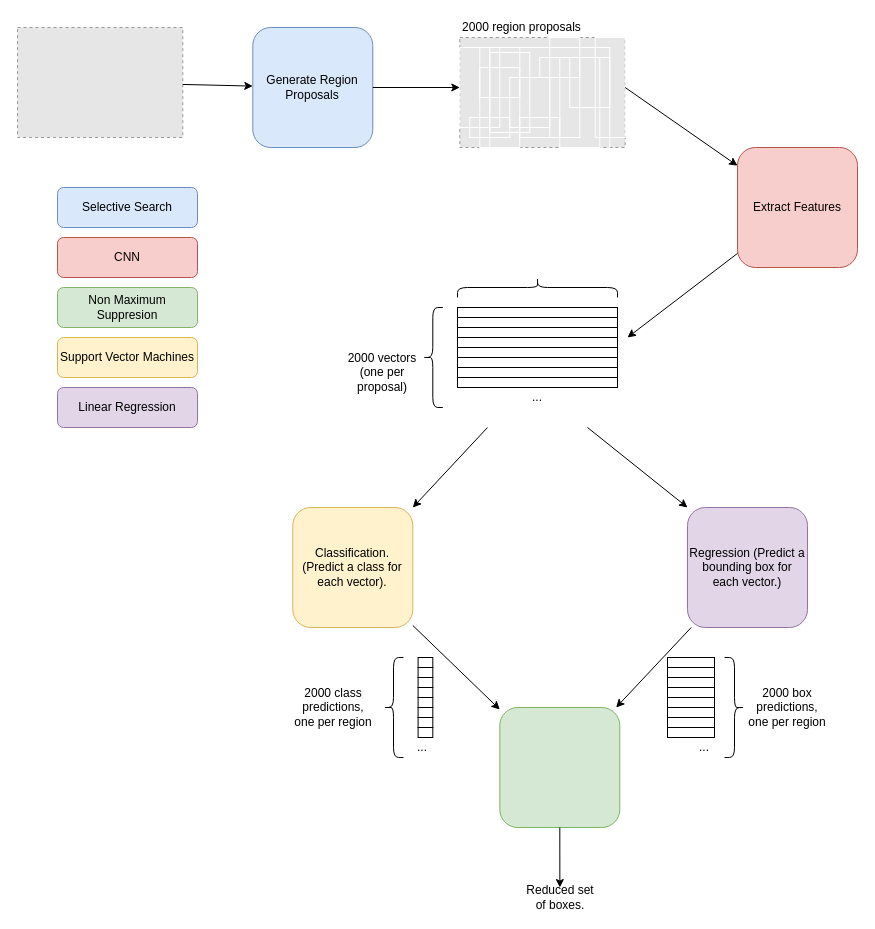
Some shapes in this 875 by 929 pixel diagram are drawn without their labels. Grey dashed boxes stand in for pictures. Here are the shapes that lost their labels. From the top down, the box of each, then its label:
(456, 276, 618, 298): length 4096
(499, 706, 620, 828): Non Maximum Suppression
